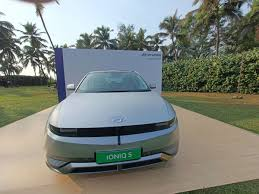Honda Ioniq: (44, 65, 181, 183)
